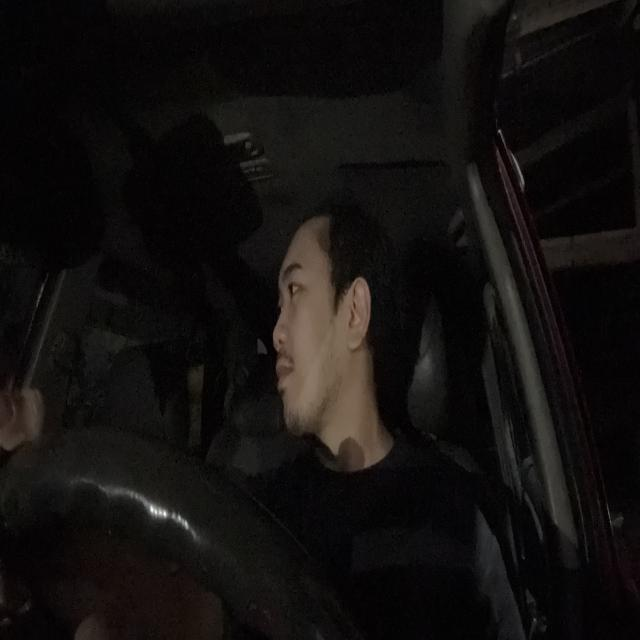open: (282, 258, 312, 310)
